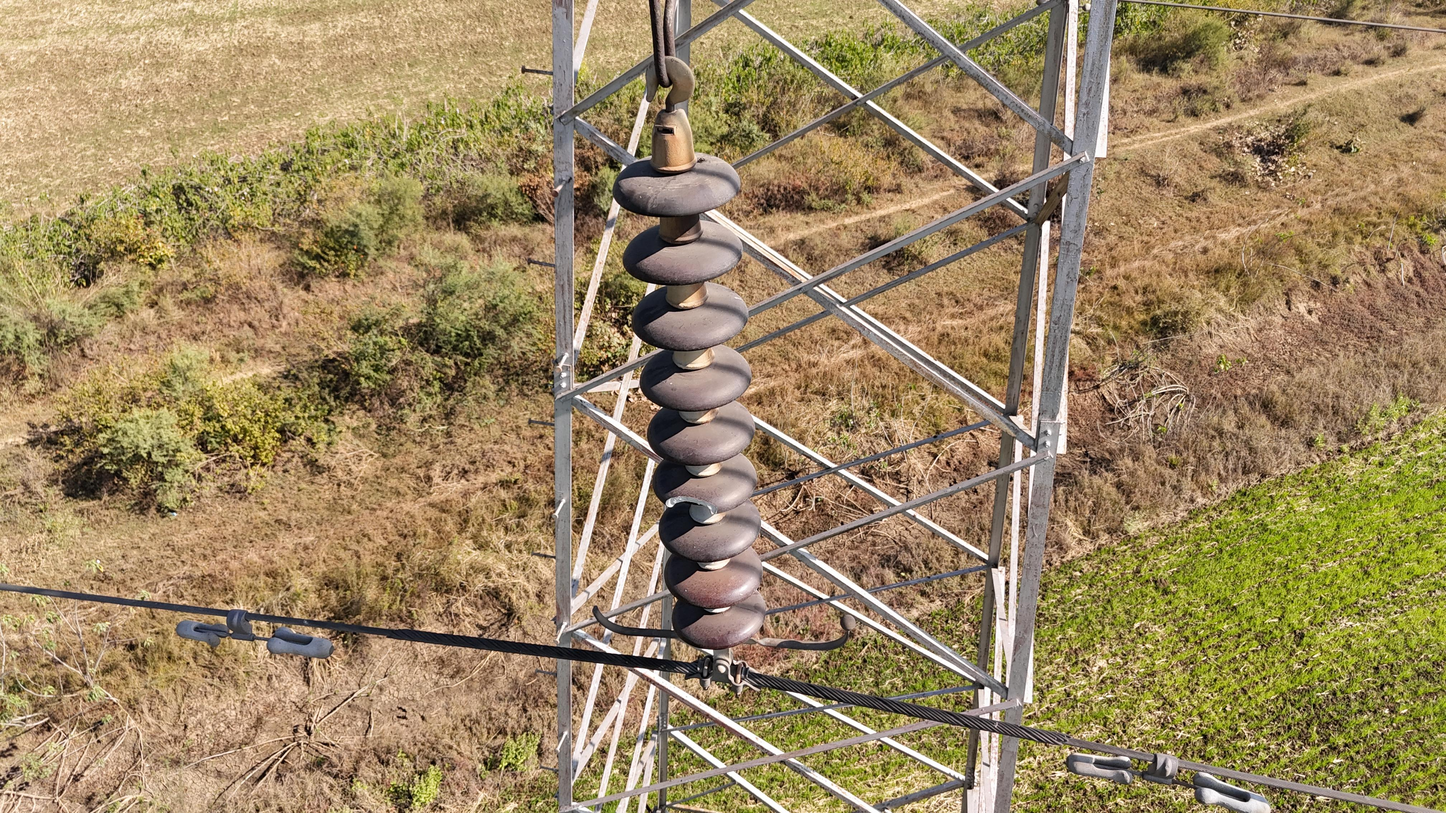broken_insulator: (646, 460, 766, 524)
